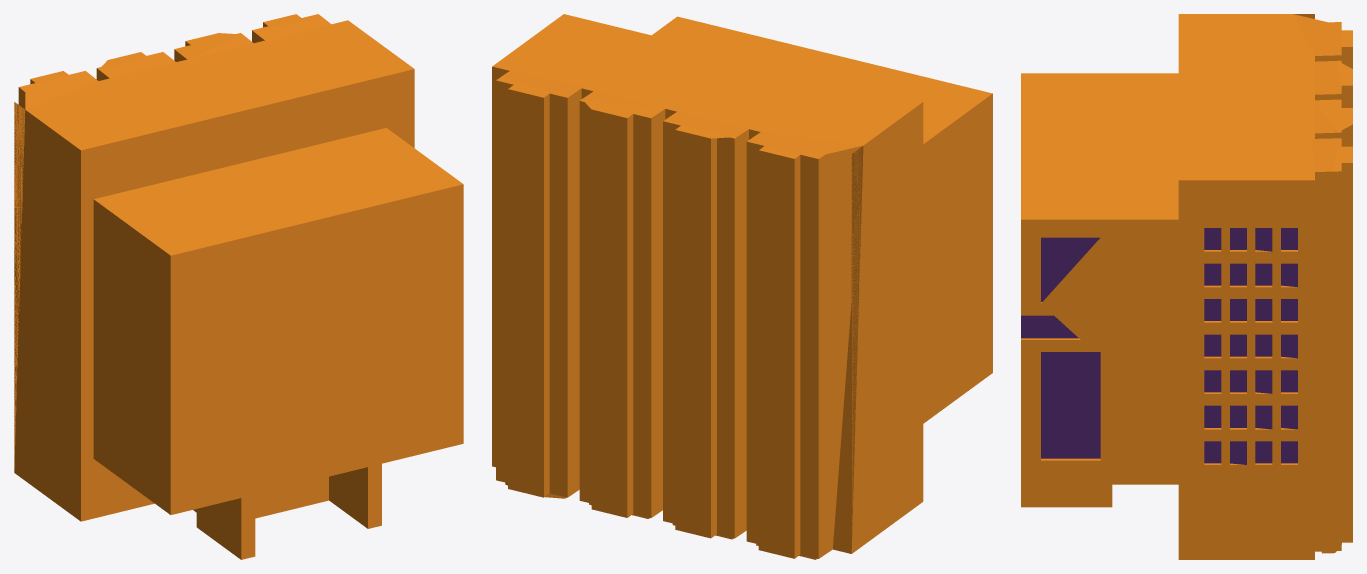
File: SezamV2.fbx
The picture shows the model from 3 angles, left to right: view 1: azimuth 30°, elevation 25°; view 2: azimuth 150°, elevation 25°; view 3: azimuth 270°, elevation 25°; orthographic projection. The views are drawn at different scales.
Parts seen in each view (by area): view 1: SezamV2; view 2: SezamV2; view 3: SezamV2.
Boxes of the visible parts, x1,y1,x2,y2 form: SezamV2: [14, 14, 463, 559]; SezamV2: [492, 14, 992, 559]; SezamV2: [1021, 14, 1352, 559].
Bounding box in the file's own units: 44.04 × 47.47 × 37.09.
1 material, 1 textured.
